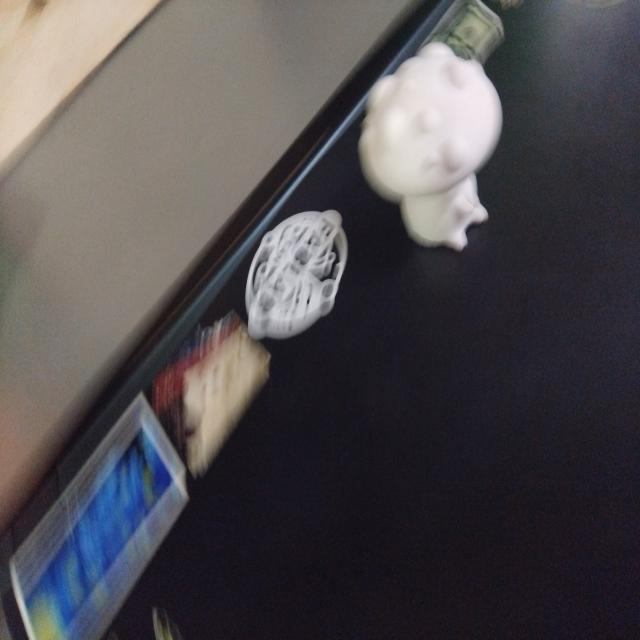Hongo: (352, 36, 516, 260)
